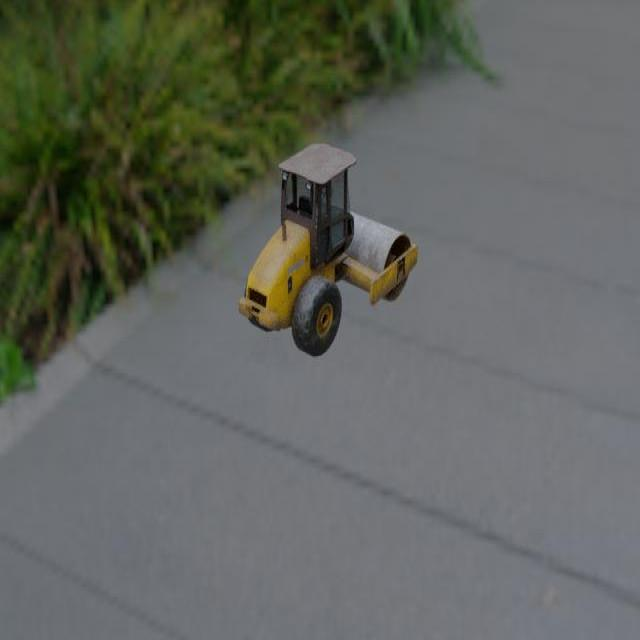Roller: (238, 143, 418, 357)
